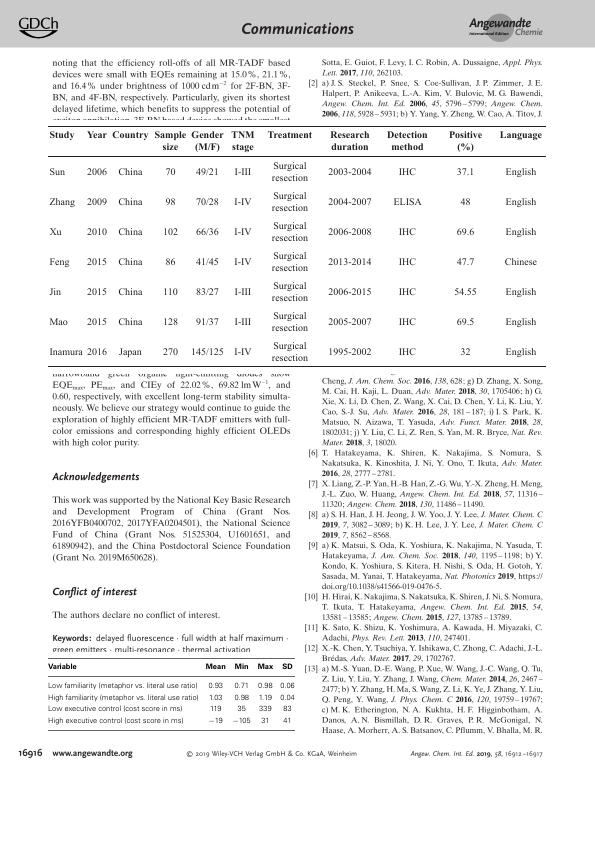borderless: (47, 125, 546, 366), (47, 657, 295, 731)
cell: (46, 694, 199, 703), (46, 682, 198, 691), (46, 717, 184, 726), (46, 705, 183, 714), (386, 131, 428, 154), (329, 131, 370, 154), (270, 191, 309, 215), (270, 162, 309, 185), (270, 221, 309, 244), (270, 251, 309, 274), (270, 281, 309, 304), (270, 311, 309, 334), (270, 341, 309, 364), (448, 131, 483, 154), (153, 131, 187, 154), (190, 131, 224, 154), (230, 131, 255, 154), (327, 197, 372, 209), (266, 131, 313, 142), (498, 131, 543, 142), (327, 168, 372, 179), (327, 227, 372, 238), (327, 257, 372, 268), (327, 287, 372, 298), (327, 317, 372, 328), (327, 347, 372, 358), (111, 131, 149, 142), (504, 197, 537, 209), (503, 257, 538, 268), (48, 347, 83, 358), (190, 347, 224, 358), (504, 168, 537, 179), (504, 227, 537, 238), (504, 287, 537, 298), (504, 317, 537, 328), (504, 347, 537, 358), (392, 197, 422, 209), (48, 197, 76, 209), (117, 197, 143, 209), (48, 131, 75, 142), (195, 197, 219, 209), (117, 168, 143, 179), (117, 227, 143, 238), (117, 257, 143, 268), (117, 287, 143, 298), (117, 317, 143, 328), (195, 168, 219, 179), (86, 197, 108, 209), (195, 227, 219, 238), (195, 257, 219, 268), (195, 287, 219, 298), (453, 287, 477, 298), (195, 317, 219, 328), (118, 347, 142, 358), (46, 663, 77, 671), (86, 131, 108, 142), (85, 168, 107, 179), (85, 227, 107, 238), (48, 257, 70, 268), (86, 257, 108, 268), (86, 287, 108, 298), (86, 317, 108, 328), (86, 347, 108, 358), (233, 197, 252, 209), (397, 168, 417, 179), (455, 168, 475, 179), (397, 227, 417, 238), (455, 227, 475, 238), (397, 257, 417, 268), (455, 257, 475, 268), (397, 287, 417, 298), (48, 317, 68, 328), (397, 317, 417, 328), (455, 317, 475, 328), (397, 347, 417, 358), (233, 168, 252, 179), (233, 227, 252, 238), (233, 257, 252, 268), (233, 287, 252, 298), (233, 317, 252, 328), (233, 347, 252, 358), (48, 168, 66, 179), (162, 227, 179, 238), (162, 317, 179, 328), (162, 347, 179, 358), (231, 717, 251, 726), (162, 287, 178, 298), (204, 663, 226, 671), (48, 227, 62, 238), (48, 287, 62, 298), (256, 682, 273, 691), (164, 197, 176, 209), (459, 197, 471, 209), (207, 682, 223, 691), (233, 682, 249, 691), (279, 682, 295, 691), (207, 694, 223, 703), (233, 694, 249, 703), (279, 694, 295, 703), (207, 717, 223, 726), (256, 663, 273, 671), (257, 694, 272, 703), (257, 705, 272, 714), (164, 168, 176, 179), (164, 257, 176, 268), (459, 347, 471, 358), (233, 663, 249, 671), (208, 705, 222, 714), (281, 663, 293, 671), (236, 705, 246, 714), (282, 705, 292, 714), (260, 717, 270, 726), (282, 717, 292, 726)
